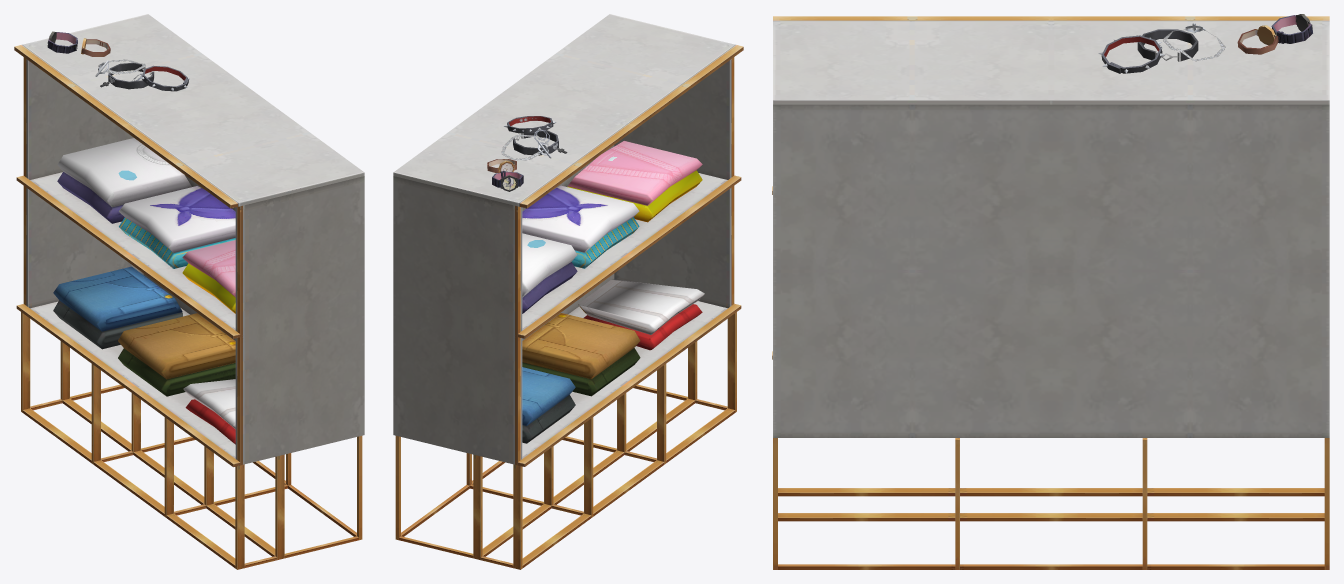
Rendered from my_shoppingmall_01_wardrobe_01.glb.
The picture shows the model from 3 angles, left to right: view 1: azimuth 30°, elevation 25°; view 2: azimuth 150°, elevation 25°; view 3: azimuth 270°, elevation 25°; orthographic projection. The views are drawn at different scales.
Parts seen in each view (by area): view 1: my_shoppingmall_01_wardrobe_01; view 2: my_shoppingmall_01_wardrobe_01; view 3: my_shoppingmall_01_wardrobe_01.
Boxes of the visible parts, x1,y1,x2,y2 form: my_shoppingmall_01_wardrobe_01: (14, 14, 364, 569); my_shoppingmall_01_wardrobe_01: (393, 14, 743, 569); my_shoppingmall_01_wardrobe_01: (772, 14, 1329, 569).
Size of the model in its own units: 0.00424 by 0.0116 by 0.0119.
1 material, 1 textured.
